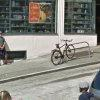Bicycle: (48, 36, 76, 66)
